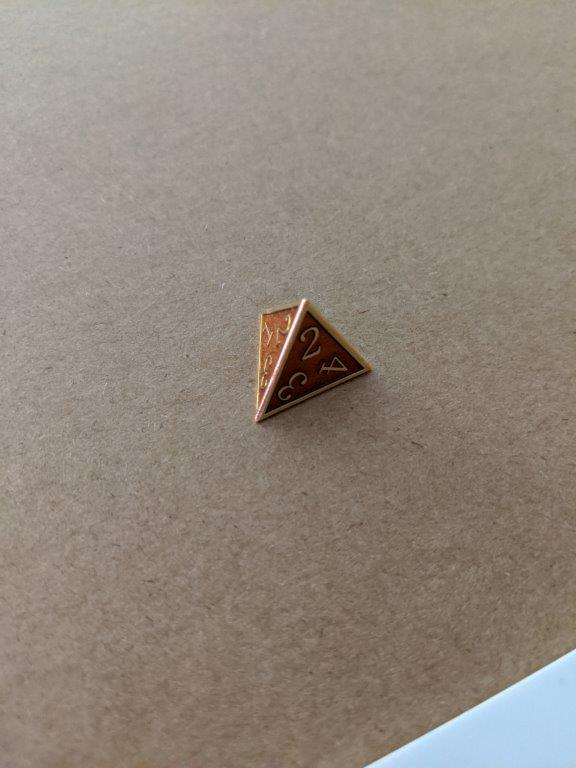d4-2: (249, 296, 375, 426)
